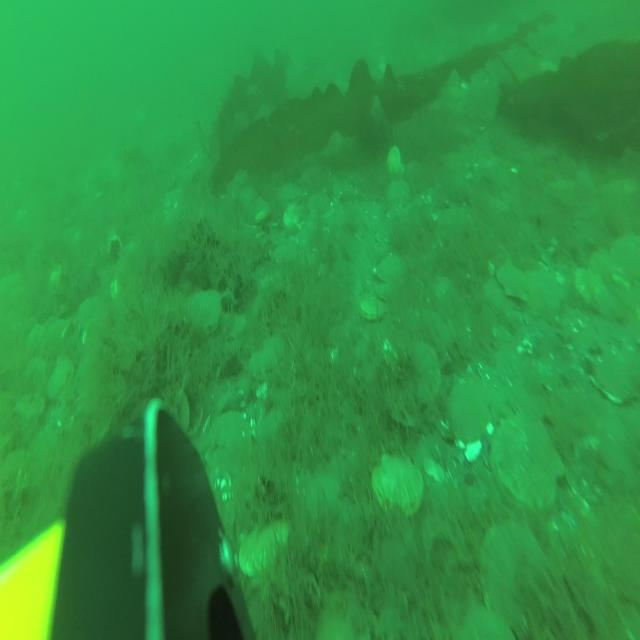scallop: (479, 512, 552, 627), (492, 410, 566, 512), (387, 336, 443, 429), (448, 368, 504, 448), (204, 408, 254, 482), (372, 450, 424, 519), (238, 520, 287, 579), (575, 270, 621, 330), (593, 351, 639, 409), (589, 249, 631, 302), (523, 269, 565, 320), (187, 290, 224, 336), (495, 260, 528, 304), (614, 233, 639, 290), (378, 251, 410, 292), (48, 352, 74, 399), (17, 388, 47, 427), (360, 294, 386, 326), (277, 180, 302, 212), (271, 237, 298, 264), (386, 179, 410, 208), (308, 192, 332, 217), (386, 142, 403, 172), (284, 203, 301, 228)
